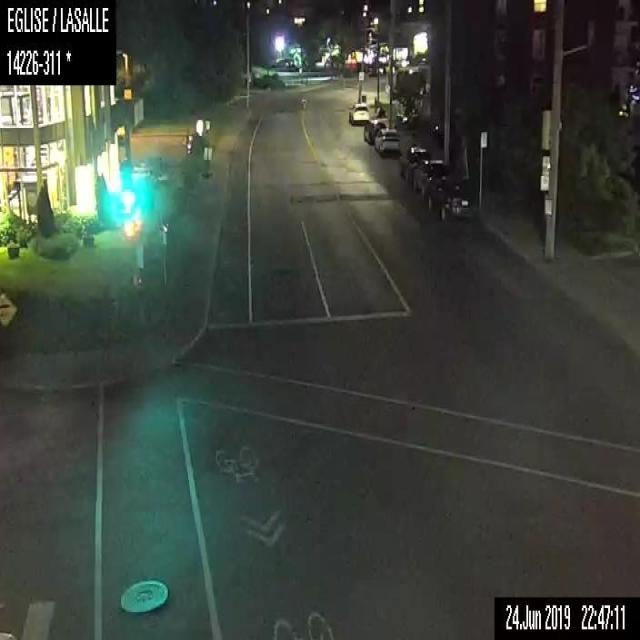vehicle: (426, 174, 477, 218), (411, 157, 451, 194), (398, 144, 427, 181), (374, 127, 402, 159), (364, 116, 386, 147), (348, 100, 370, 126)
